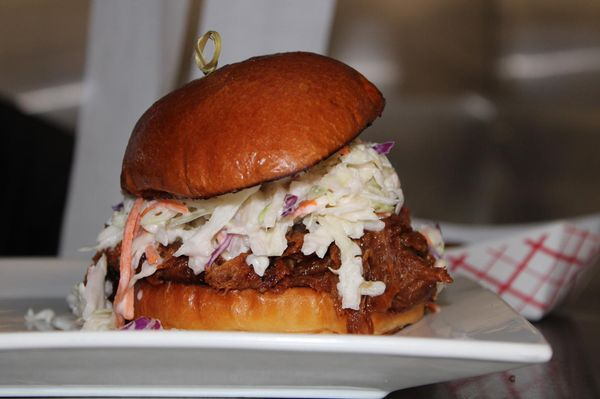soup: (69, 51, 454, 336)
